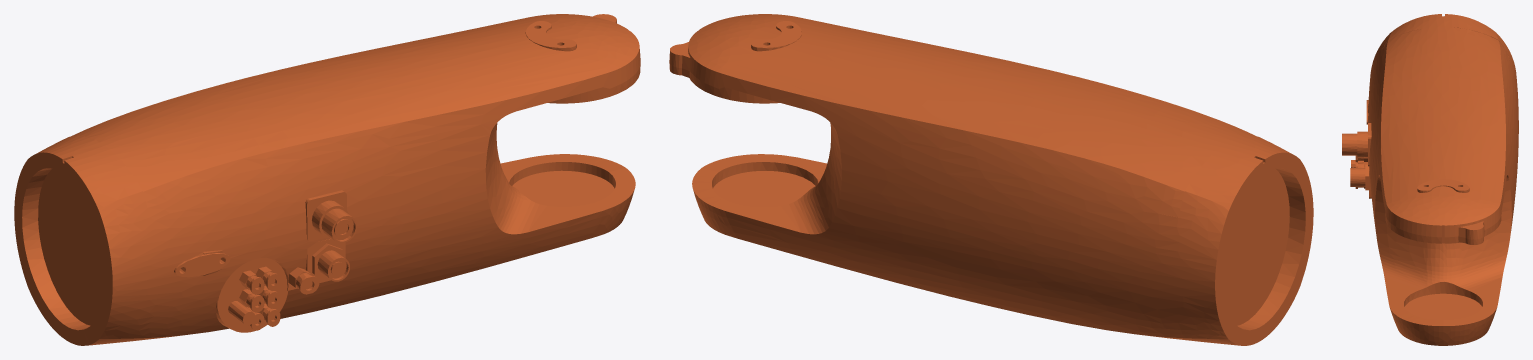
3 renders of one model, left to right at view 1: azimuth 30°, elevation 25°; view 2: azimuth 150°, elevation 25°; view 3: azimuth 270°, elevation 25°, orthographic. The views are drawn at different scales.
Visible parts, largest first — view 1: link_4; view 2: link_4; view 3: link_4.
Boxes of the visible parts, x1,y1,x2,y2 form: link_4: (14,14,640,345); link_4: (669,14,1313,345); link_4: (1342,14,1518,345).
Size of the model in its own units: 0.359 by 0.1183 by 0.1291.
